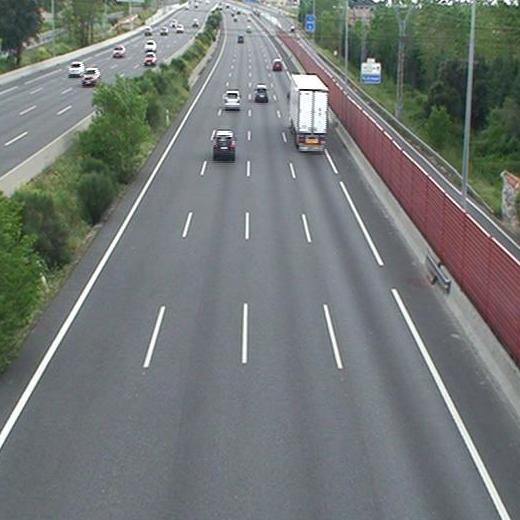car: (213, 130, 235, 157), (223, 91, 240, 109), (255, 84, 269, 102), (272, 59, 282, 71), (237, 35, 244, 44)
truck: (289, 74, 327, 152)
